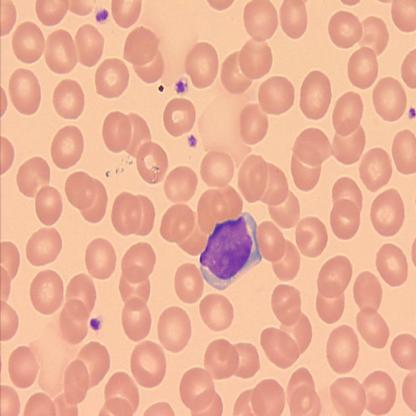Atypical lymphocyte: (200, 215, 254, 290)
